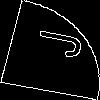J: (24, 25, 85, 60)
